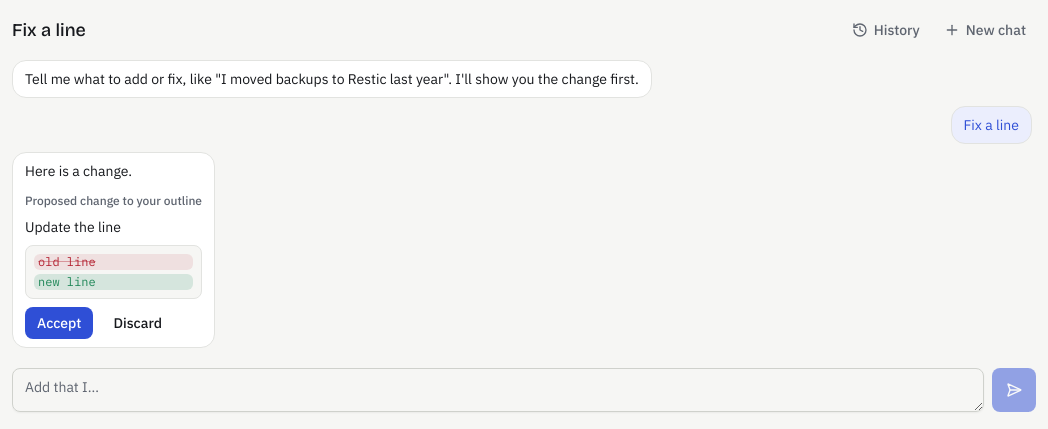
accepts a fresh proposal with its message and thread ids
Click the button "Accept" at {"x": 59, "y": 323}, box top-left (25, 307), bottom-right (93, 339)
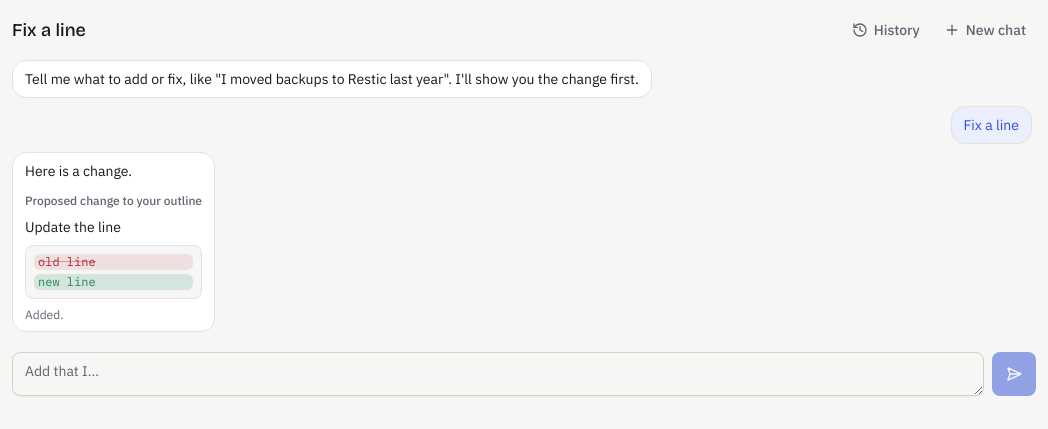
Expected: the text "Added." is shown, top-left (25, 307), bottom-right (63, 322)
